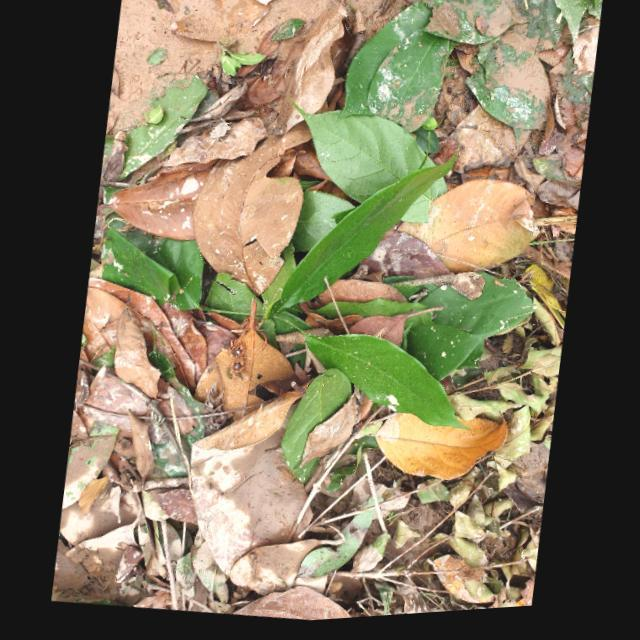biowaste: (269, 160, 456, 317), (189, 393, 322, 599), (192, 124, 311, 300), (93, 280, 246, 397), (303, 338, 470, 437), (290, 103, 436, 208), (404, 278, 536, 387), (394, 183, 539, 280), (192, 302, 308, 422), (339, 7, 433, 124), (116, 231, 229, 315), (367, 36, 455, 138), (373, 419, 506, 486), (109, 161, 214, 240), (100, 229, 179, 308), (293, 514, 373, 585), (297, 391, 360, 471), (228, 590, 349, 624), (112, 313, 159, 400), (429, 562, 498, 612), (307, 303, 428, 323), (316, 284, 407, 309), (398, 182, 446, 229), (126, 411, 152, 489), (76, 478, 106, 517)
